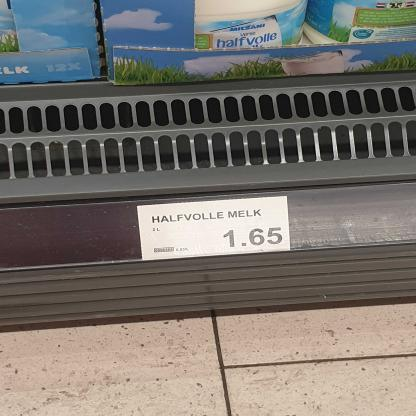prtg: (137, 197, 291, 261)
